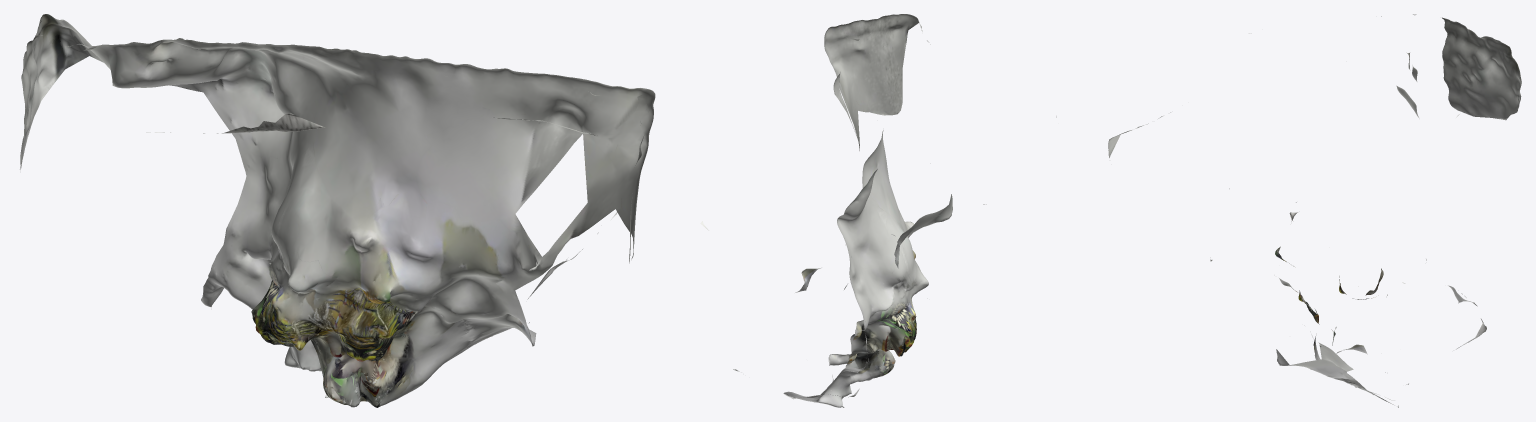
The picture shows the model from 3 angles, left to right: view 1: azimuth 30°, elevation 25°; view 2: azimuth 150°, elevation 25°; view 3: azimuth 270°, elevation 25°; orthographic projection. The views are drawn at different scales.
Bounding box in the file's own units: 1.82 × 1.4 × 1.81.
Materials: 1 (1 with a texture image).
